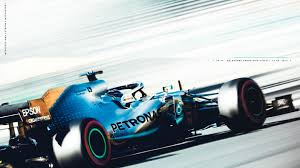FormulaOneCar: (1, 68, 270, 167)
